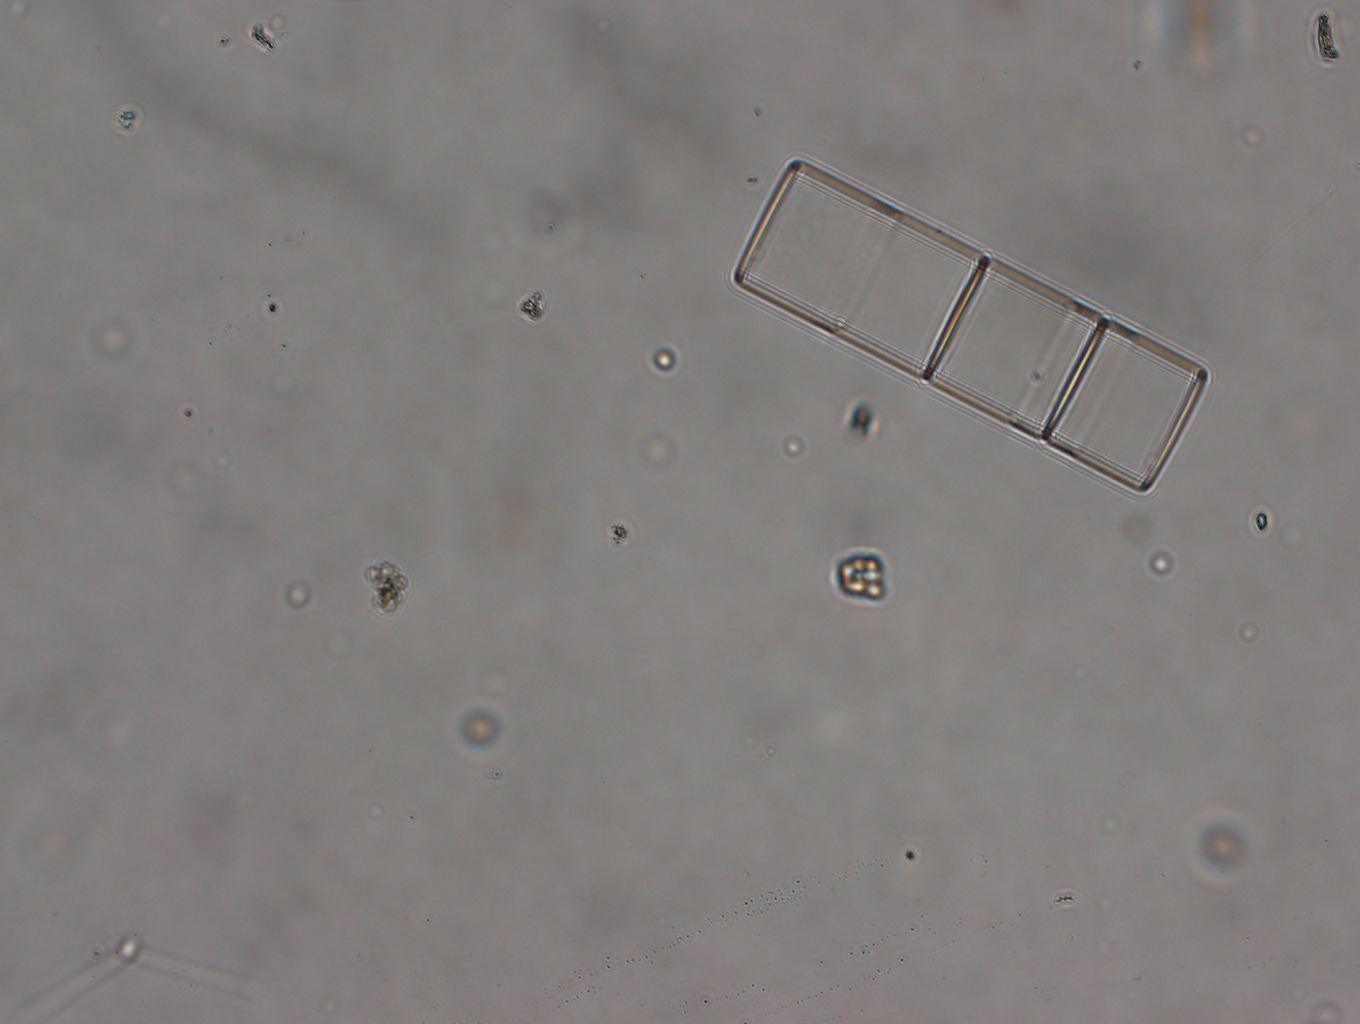guinardia flaccida: (722, 145, 1213, 499)
